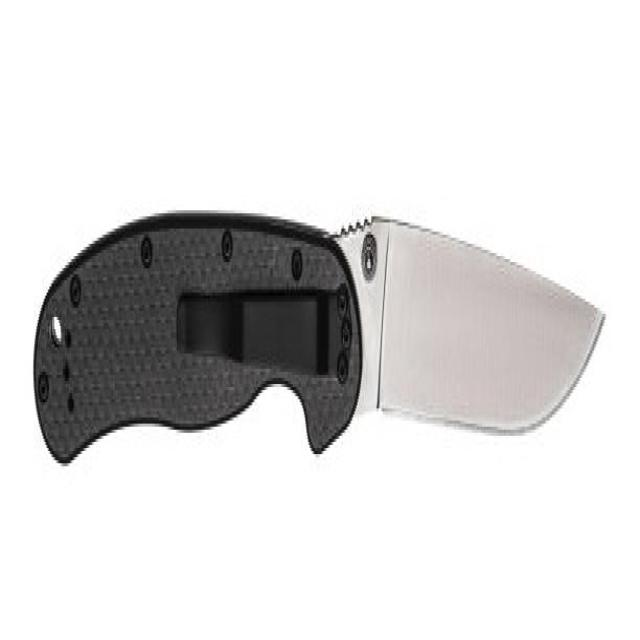knife: (35, 191, 609, 514)
